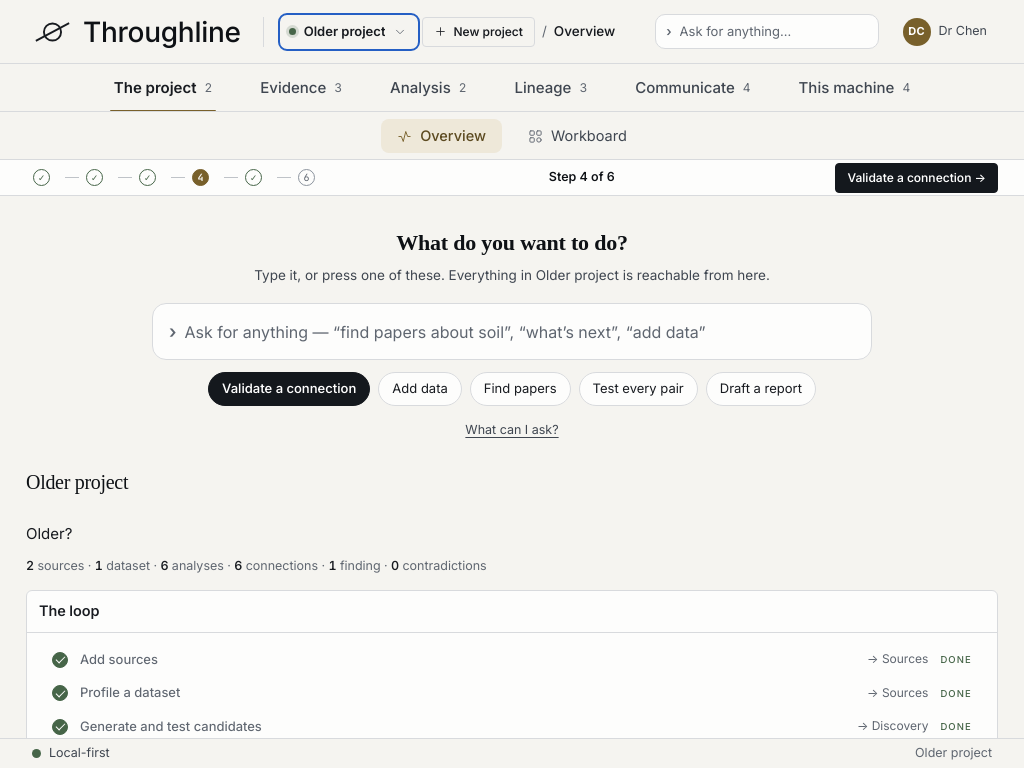
Scenario: a project just created is the one on screen (D196) › opens the new project and puts it in the address
This screenshot has width=1024, height=768.
Press Enter
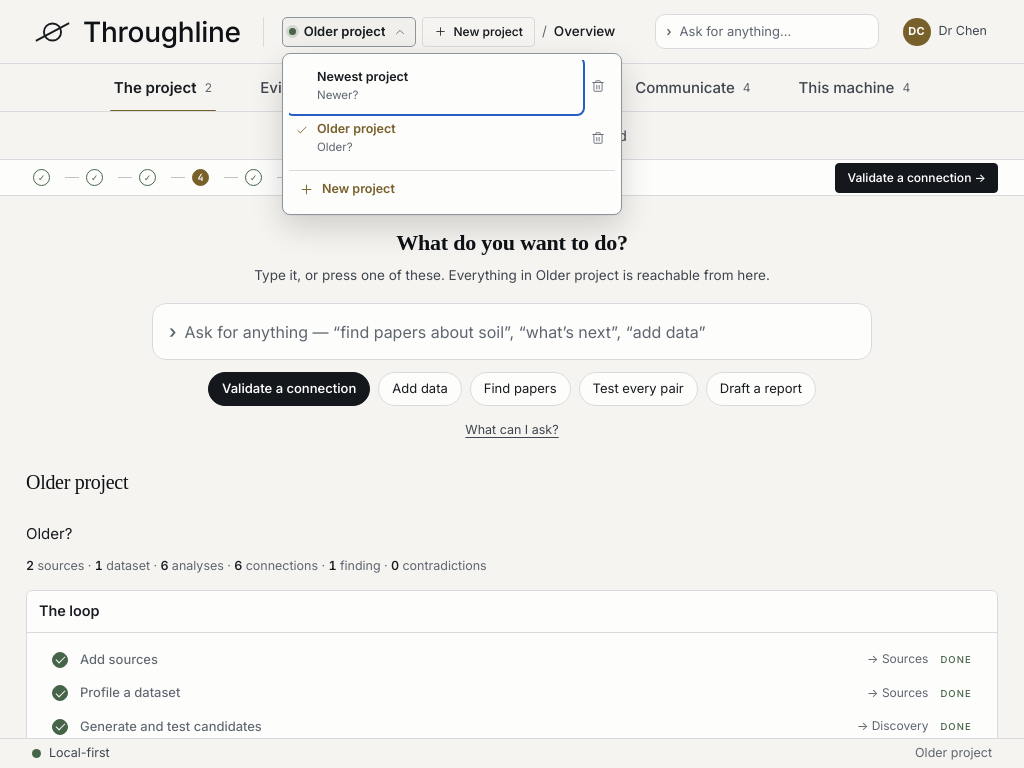
Click the menu item "New project": (358, 188) [289,170,615,208]
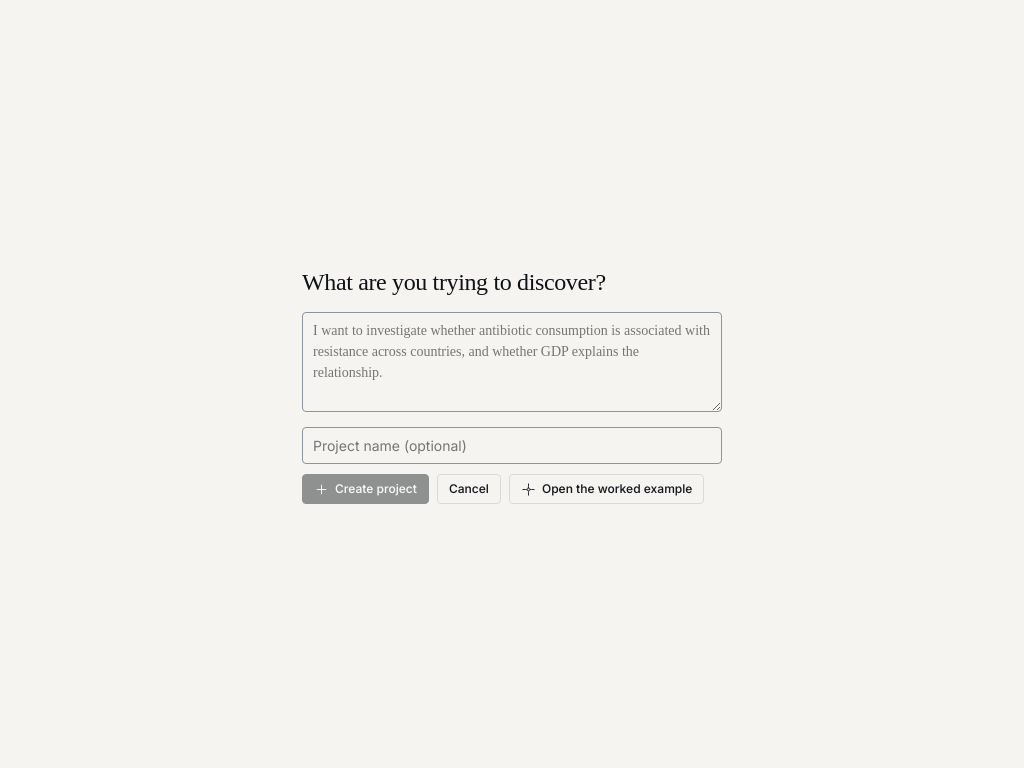
Replace the text in the text box named "Research question" with "Does creating open it?": (512, 362) [302,312,722,412]
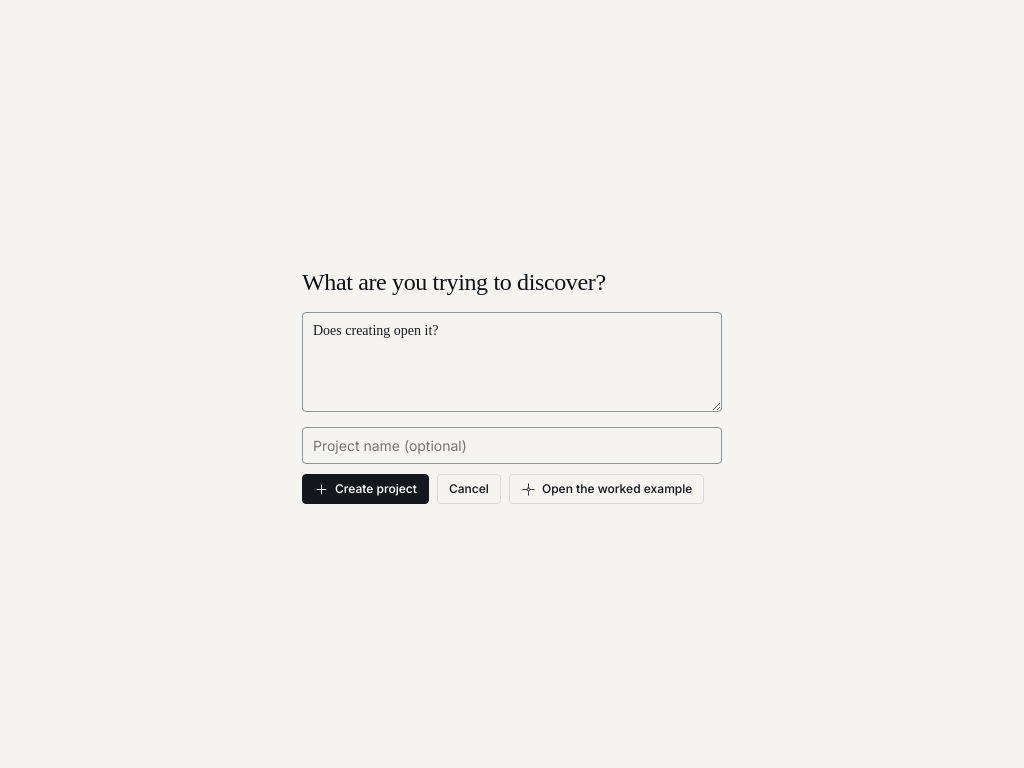
Click the button "Create project": (365, 489) [302,474,429,504]
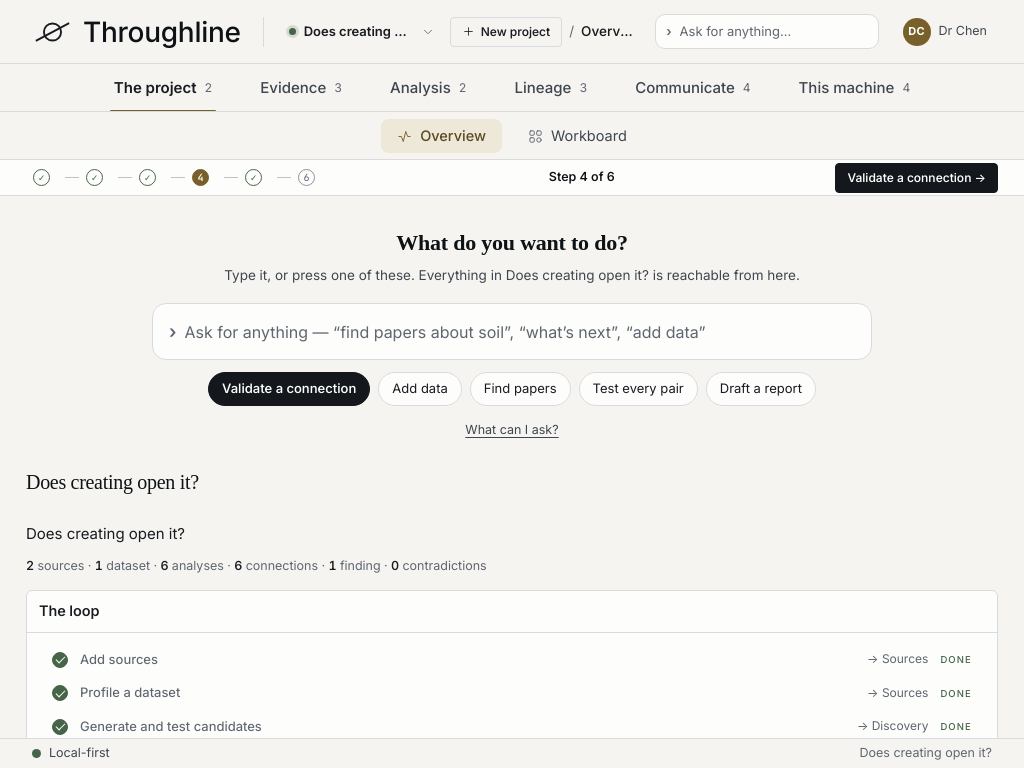
Now the text "Does creating open it?" next to "Throughline" is shown, box [304,23,444,39]
Now the text "Overview" in the row of "Throughline" is shown, box [581,23,643,39]
